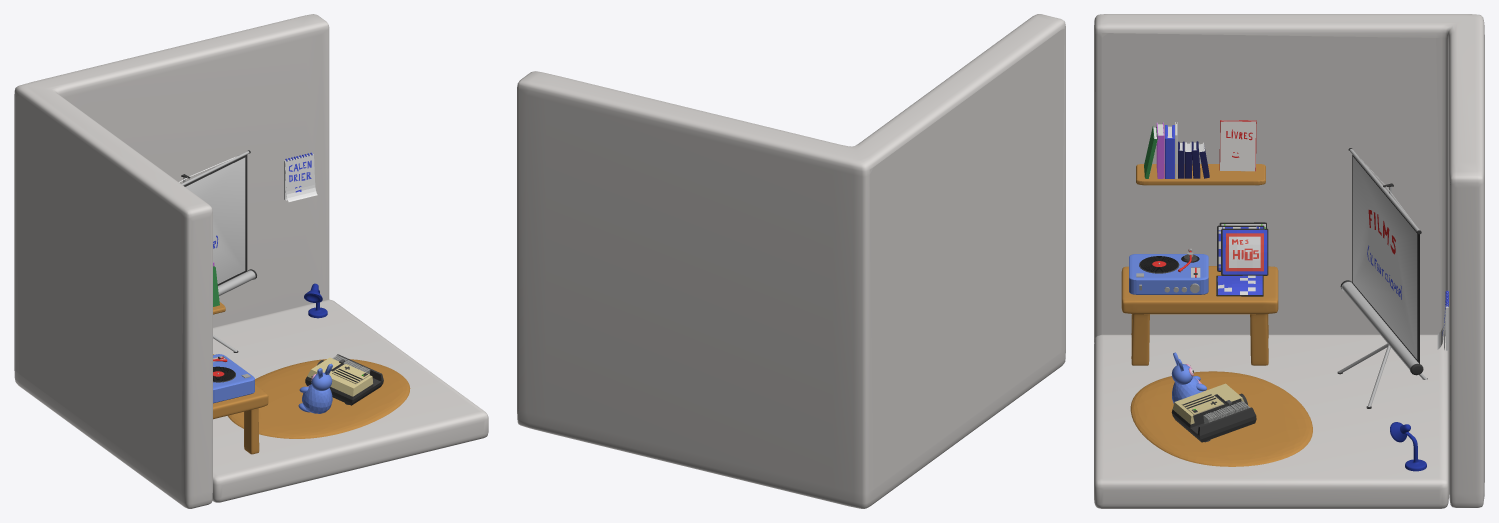
Rendered from projection_room_4.glb.
3 renders of one model, left to right at view 1: azimuth 30°, elevation 25°; view 2: azimuth 150°, elevation 25°; view 3: azimuth 270°, elevation 25°, orthographic. The views are drawn at different scales.
Parts seen in each view (by area): view 1: walls, floor, rug, screen, projector, table, turntable, calendar, rabbit; view 2: walls; view 3: walls, floor, screen, rug, bookshelf, table, turntable, projector, record_2, record_3, rabbit, lamp.
Boxes of the visible parts, bbox=[...] form: walls: bbox=[14, 14, 329, 508]; floor: bbox=[212, 299, 488, 502]; rug: bbox=[228, 359, 410, 438]; screen: bbox=[179, 150, 256, 352]; projector: bbox=[305, 354, 383, 405]; table: bbox=[213, 354, 268, 454]; turntable: bbox=[213, 354, 254, 403]; calendar: bbox=[284, 152, 317, 201]; rabbit: bbox=[298, 363, 332, 413]; walls: bbox=[517, 14, 1065, 508]; walls: bbox=[1094, 14, 1484, 507]; floor: bbox=[1094, 334, 1448, 508]; screen: bbox=[1337, 148, 1427, 408]; rug: bbox=[1130, 371, 1312, 466]; bookshelf: bbox=[1136, 120, 1265, 185]; table: bbox=[1121, 266, 1278, 365]; turntable: bbox=[1129, 248, 1208, 294]; projector: bbox=[1171, 383, 1256, 442]; record_2: bbox=[1221, 228, 1268, 275]; record_3: bbox=[1216, 275, 1263, 296]; rabbit: bbox=[1171, 352, 1206, 403]; lamp: bbox=[1390, 422, 1426, 471].
Size of the model in its own units: 3.3 by 3.12 by 3.3.
